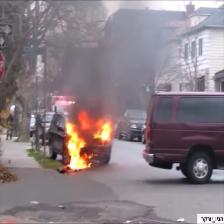fire: (67, 125, 85, 168), (98, 120, 110, 140)
smoke: (66, 52, 141, 92)
